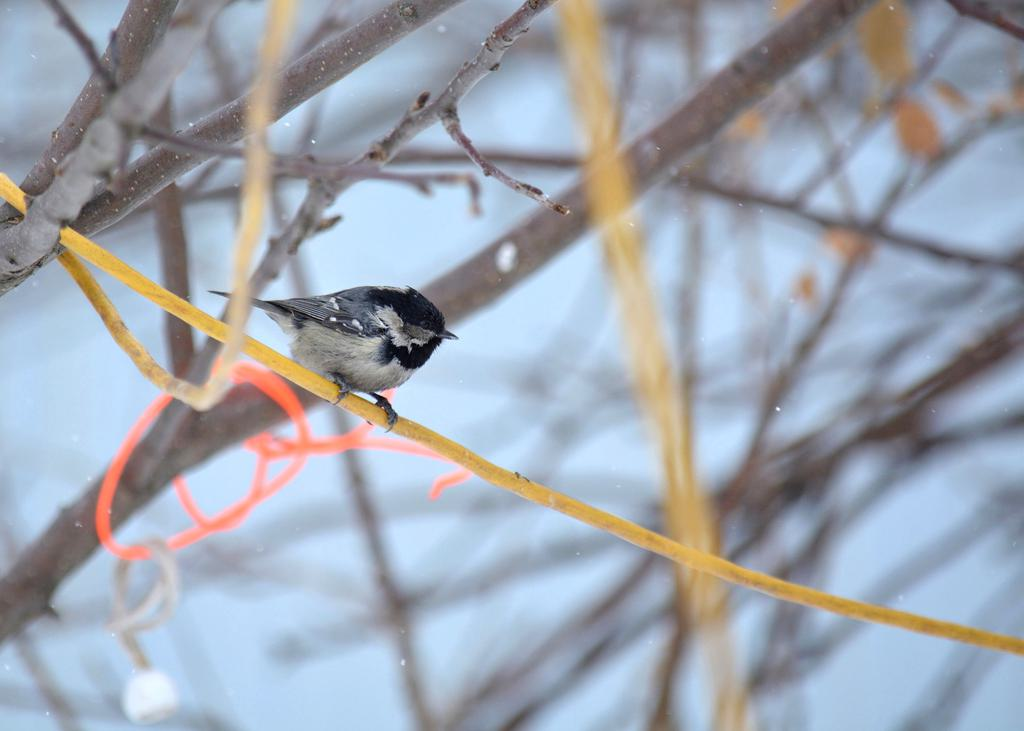PeriparusAter: (206, 282, 460, 434)
